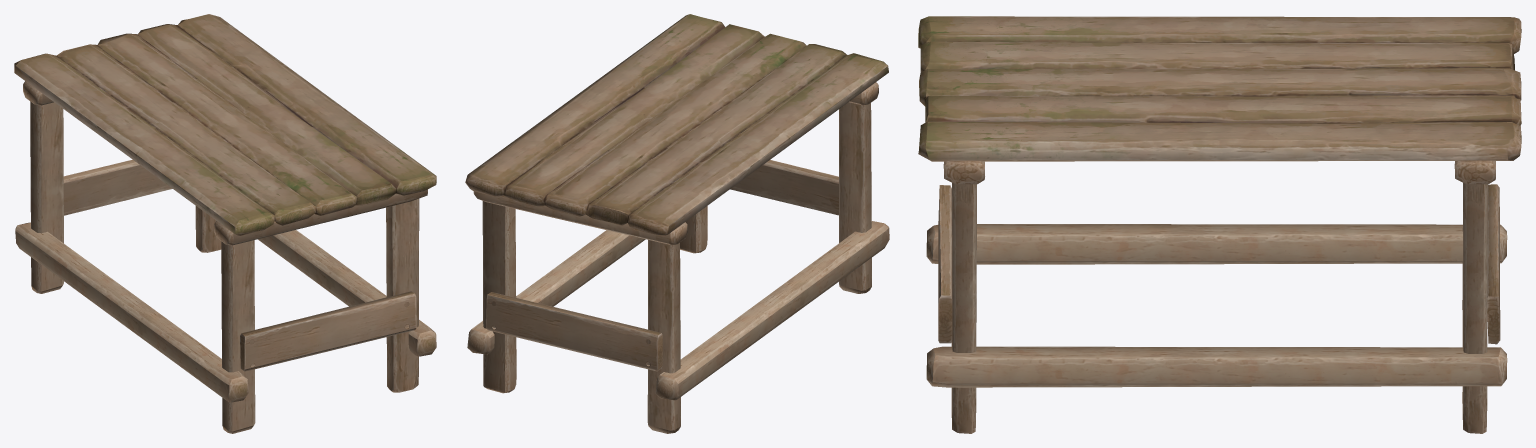
File: Scaffolding_02.fbx
3 renders of one model, left to right at view 1: azimuth 30°, elevation 25°; view 2: azimuth 150°, elevation 25°; view 3: azimuth 270°, elevation 25°, orthographic. The views are drawn at different scales.
Parts seen in each view (by area): view 1: Scaffolding_02; view 2: Scaffolding_02; view 3: Scaffolding_02.
Boxes of the visible parts, bbox=[...] form: Scaffolding_02: bbox=[14, 14, 436, 433]; Scaffolding_02: bbox=[465, 14, 889, 433]; Scaffolding_02: bbox=[918, 16, 1521, 433].
Bounding box in the file's own units: 1.01 × 1.03 × 1.88.
